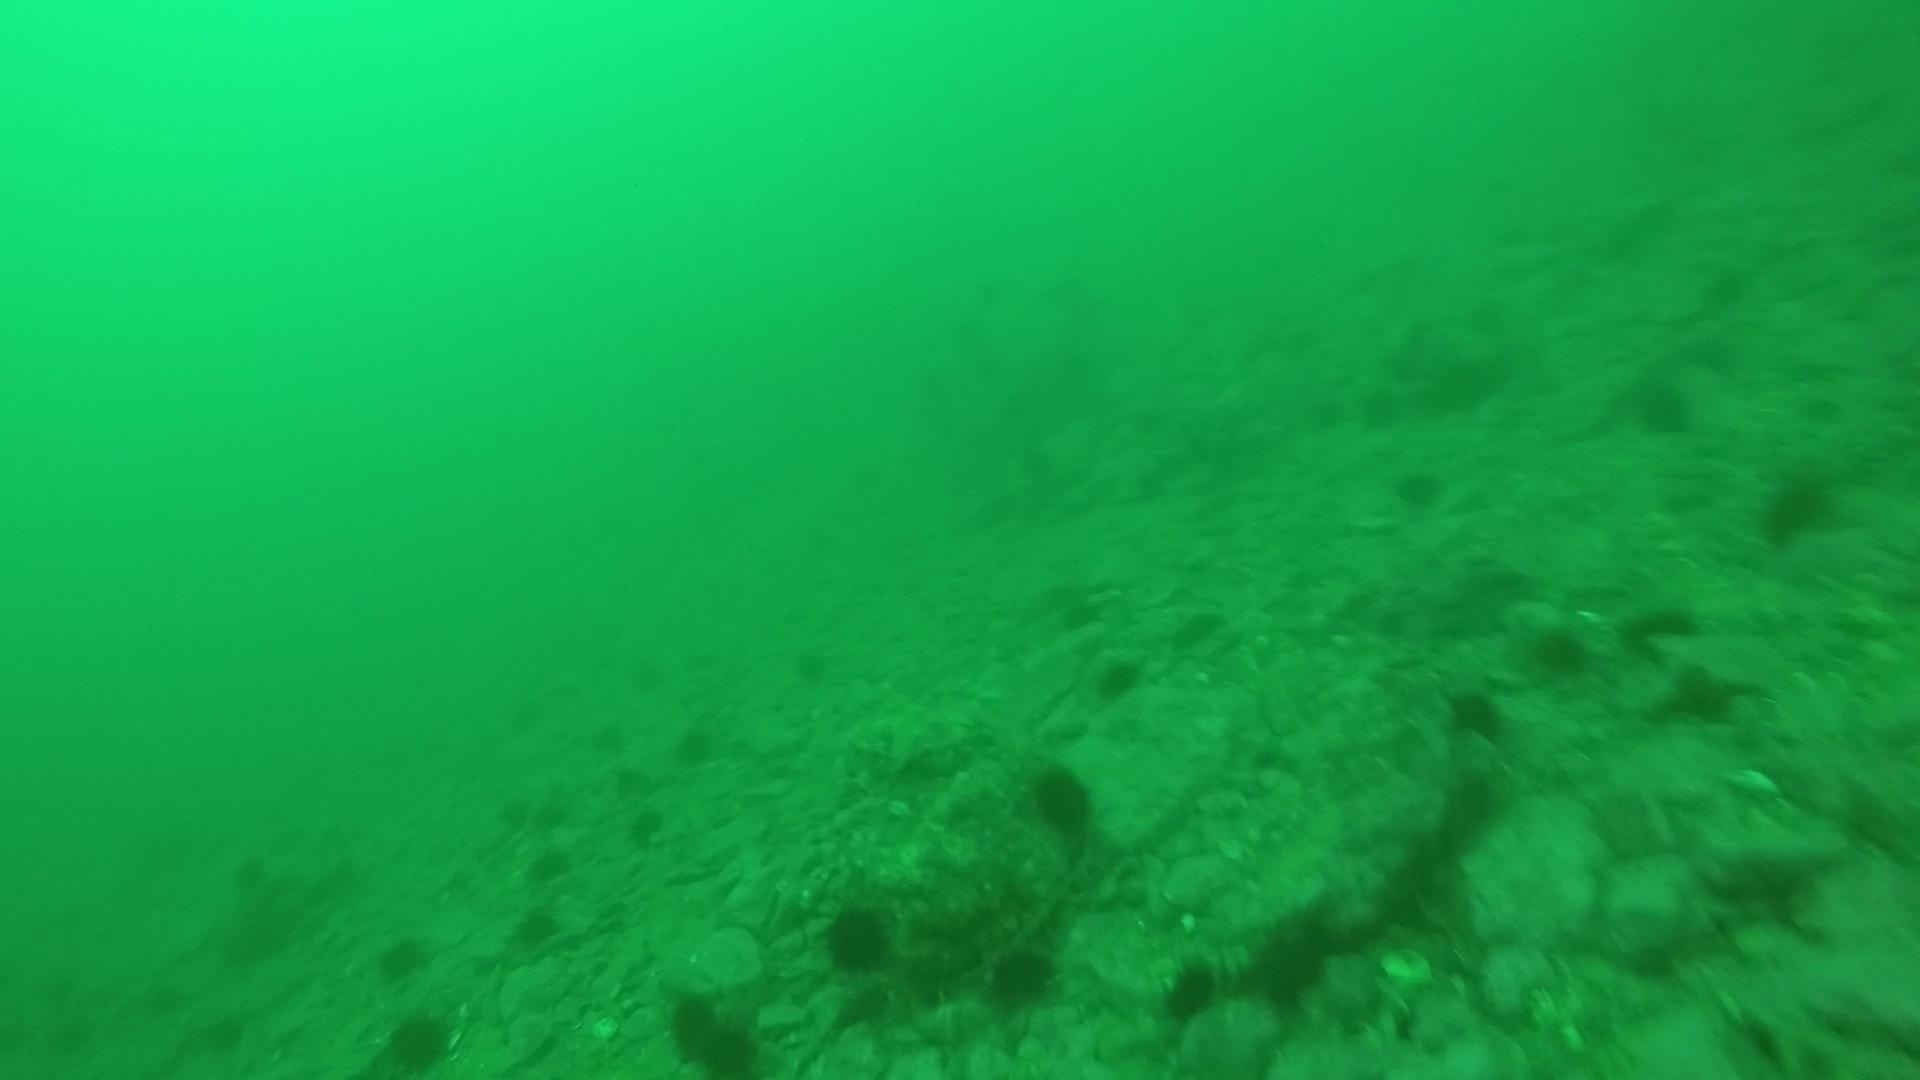echinus: (659, 986, 766, 1075), (1753, 464, 1844, 549), (816, 895, 899, 978), (1021, 758, 1102, 843), (978, 938, 1065, 1015), (375, 1007, 459, 1076), (1155, 953, 1229, 1027), (1626, 371, 1698, 439), (1437, 682, 1510, 746), (1523, 618, 1596, 683), (600, 749, 665, 808), (659, 723, 724, 782), (195, 1000, 258, 1059), (510, 899, 574, 959), (481, 781, 545, 840), (572, 700, 636, 760), (371, 928, 435, 986), (615, 800, 679, 858), (781, 632, 845, 690), (1050, 585, 1114, 644), (216, 847, 280, 905), (518, 841, 582, 899), (1087, 649, 1151, 705), (1687, 326, 1749, 380), (1389, 462, 1449, 516), (1353, 382, 1414, 436), (1305, 378, 1366, 433), (1698, 249, 1759, 303), (1120, 386, 1180, 440), (1014, 434, 1075, 488), (1527, 204, 1588, 258), (1491, 214, 1552, 266)
